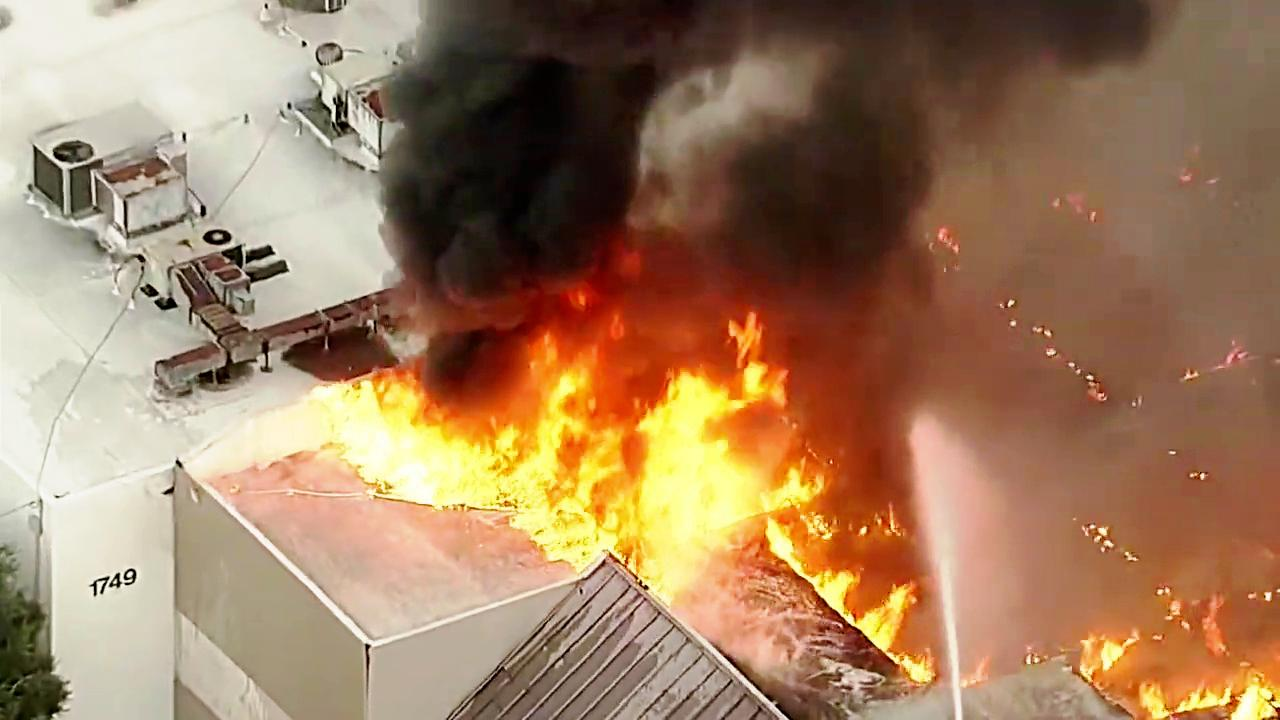fire: (521, 339, 757, 558), (320, 372, 526, 522), (759, 522, 944, 675), (1090, 589, 1230, 705)
smoke: (384, 0, 1003, 312)
